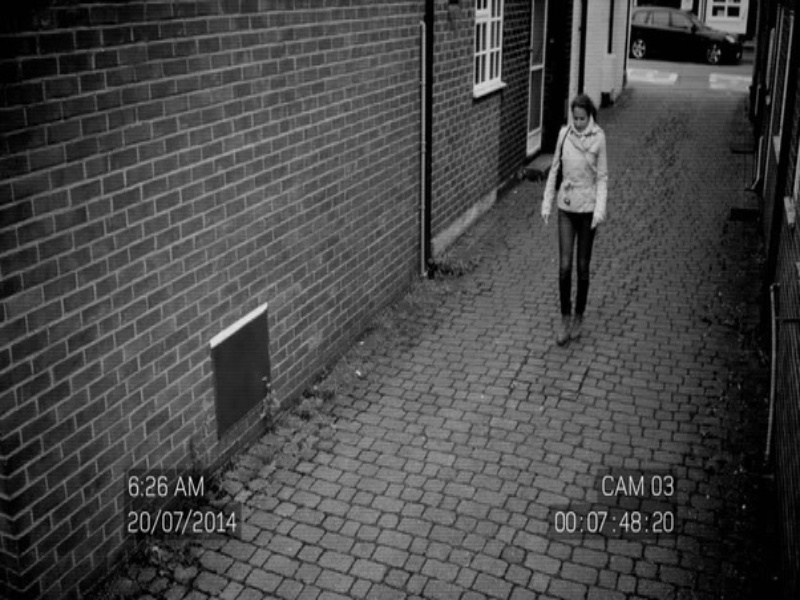car: (625, 2, 751, 69)
person: (537, 83, 616, 358)
